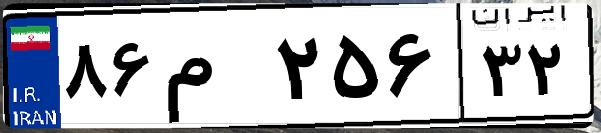2: (270, 28, 330, 110), (525, 38, 570, 115)
3: (475, 38, 525, 113)
5: (330, 28, 385, 110)
6: (385, 28, 445, 110), (110, 28, 158, 98)
8: (57, 26, 110, 100)
م: (158, 20, 270, 120)
